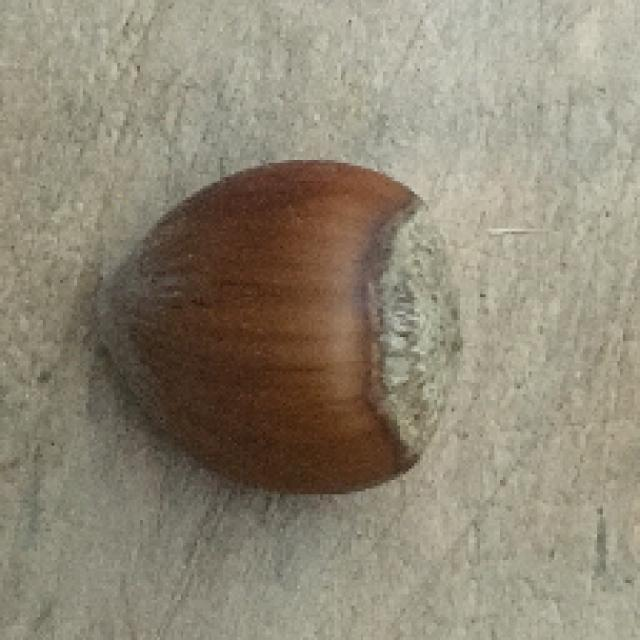QualityHazelnut: (90, 155, 465, 500)
